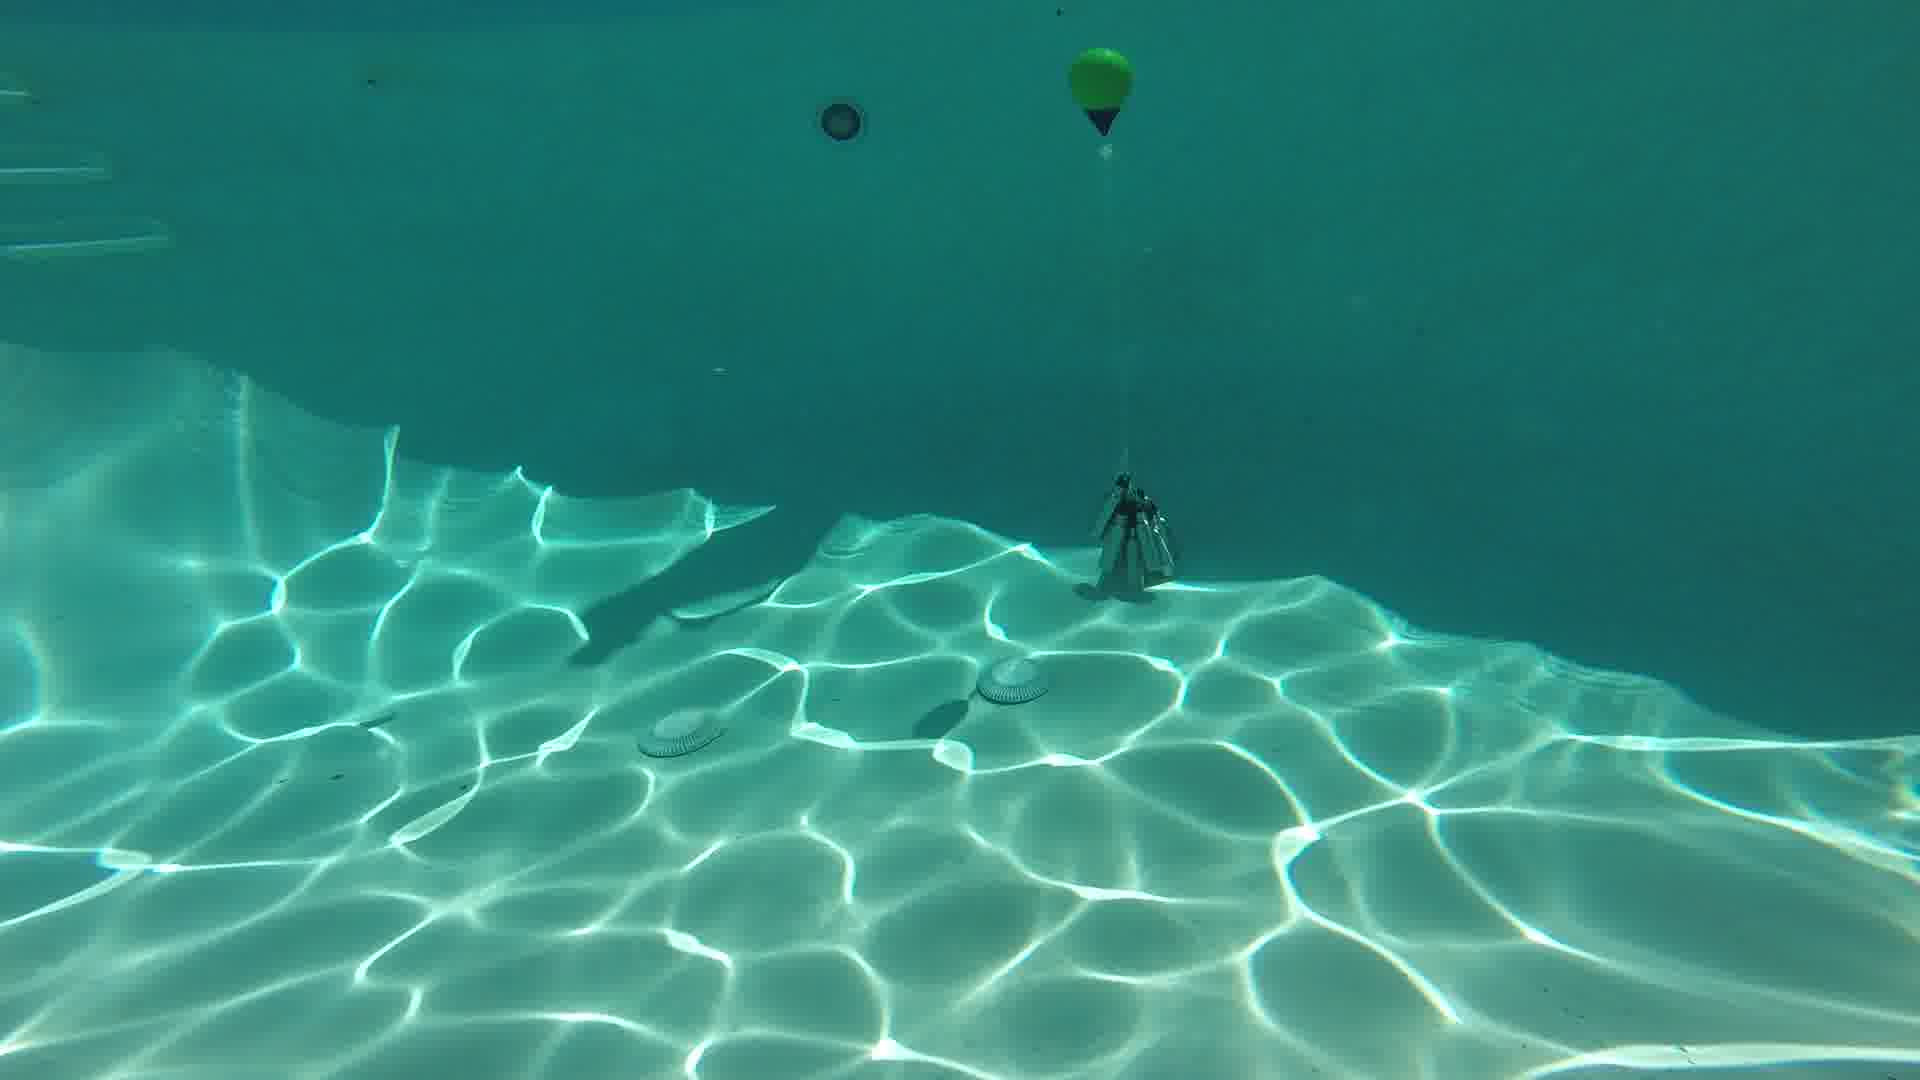yellow_buoy: (1068, 45, 1135, 162)
